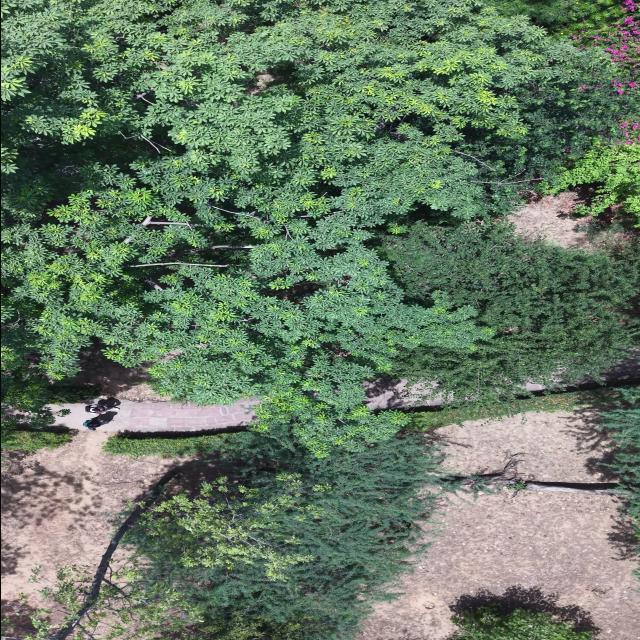DRY_AREA: (1, 348, 256, 606), (1, 348, 255, 605), (1, 348, 257, 590), (358, 491, 639, 639), (359, 492, 639, 639), (366, 493, 639, 639), (1, 428, 190, 606), (1, 430, 187, 606), (75, 349, 256, 454), (51, 347, 258, 431), (51, 347, 258, 430), (52, 347, 258, 430), (51, 349, 259, 430), (51, 351, 258, 432), (70, 347, 258, 430), (74, 347, 257, 431), (74, 347, 257, 430), (75, 348, 257, 431), (75, 348, 257, 430), (75, 352, 258, 430), (433, 406, 610, 481), (433, 407, 608, 481), (97, 364, 258, 431), (98, 367, 258, 431), (507, 186, 629, 251), (99, 383, 258, 431), (507, 189, 599, 250), (71, 346, 170, 401), (97, 397, 257, 431), (507, 191, 597, 250), (102, 396, 258, 430), (507, 191, 584, 247), (127, 397, 257, 430), (361, 378, 447, 409), (362, 378, 447, 409), (362, 378, 442, 409), (576, 347, 639, 384)
PATHWAYS: (97, 397, 258, 430)
VEGETATION_TREE: (1, 0, 637, 639), (2, 0, 590, 454), (19, 391, 639, 639), (47, 388, 639, 639), (3, 0, 585, 215), (32, 433, 442, 639), (126, 434, 441, 636), (381, 220, 637, 399), (3, 469, 201, 639), (494, 0, 639, 225), (442, 386, 639, 551), (452, 49, 637, 217), (452, 56, 633, 216), (494, 0, 639, 145), (136, 472, 330, 580), (506, 387, 639, 542), (8, 559, 202, 639), (251, 392, 409, 457), (544, 121, 639, 226), (1, 352, 101, 450), (493, 0, 639, 65), (411, 386, 620, 429), (552, 0, 639, 94), (601, 388, 639, 546), (1, 358, 101, 413), (450, 606, 592, 639), (176, 610, 333, 639), (103, 429, 261, 456), (492, 0, 578, 23), (1, 427, 74, 451)
